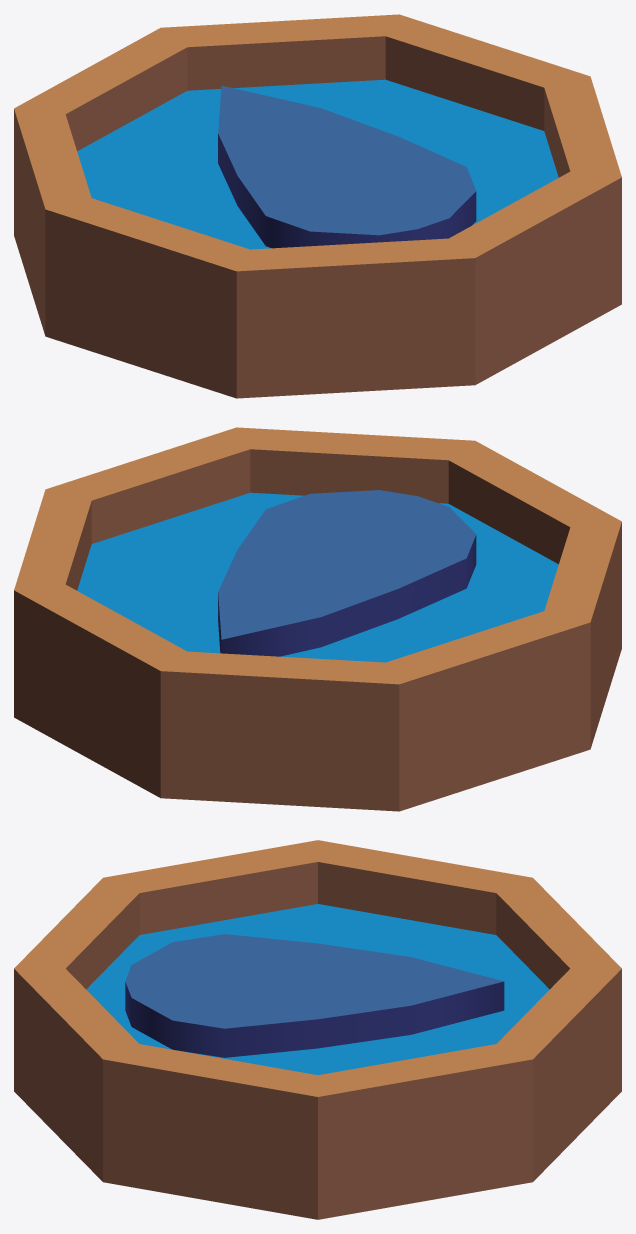
Rendered from GotaRef_3.FBX.
3 views of the same model, one above another, from view 1: azimuth 30°, elevation 25°; view 2: azimuth 150°, elevation 25°; view 3: azimuth 270°, elevation 25° (orthographic). The views are drawn at different scales.
Parts seen in each view (by area): view 1: BaseColor_03; view 2: BaseColor_03; view 3: BaseColor_03.
Boxes of the visible parts, x1=… form: BaseColor_03: x1=14, y1=14, x2=621, y2=398; BaseColor_03: x1=14, y1=427, x2=621, y2=811; BaseColor_03: x1=14, y1=840, x2=621, y2=1219.
Size of the model in its own units: 51.67 by 11.52 by 51.67.
